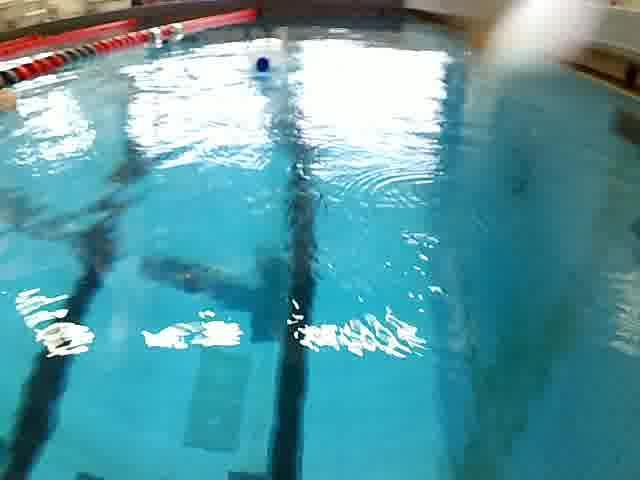Bottle: (244, 40, 281, 74)
